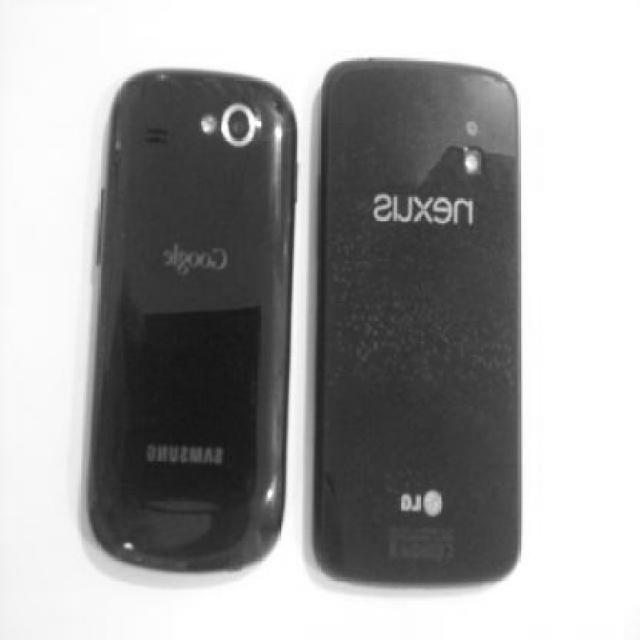fake: (314, 54, 520, 588), (85, 64, 298, 572)
